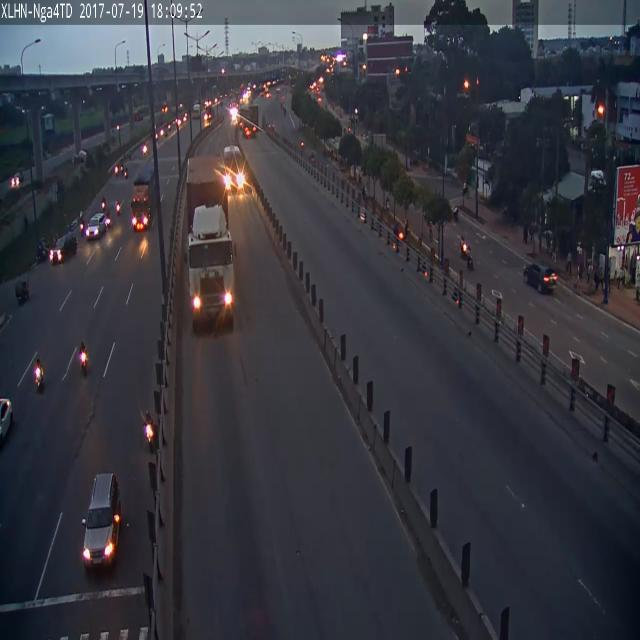car: (142, 408, 154, 451), (34, 354, 44, 394), (78, 338, 89, 374)
traffic-light: (84, 460, 120, 578), (520, 257, 558, 299), (47, 226, 78, 272), (89, 212, 104, 246)
truck: (183, 150, 239, 330), (133, 160, 157, 238)
